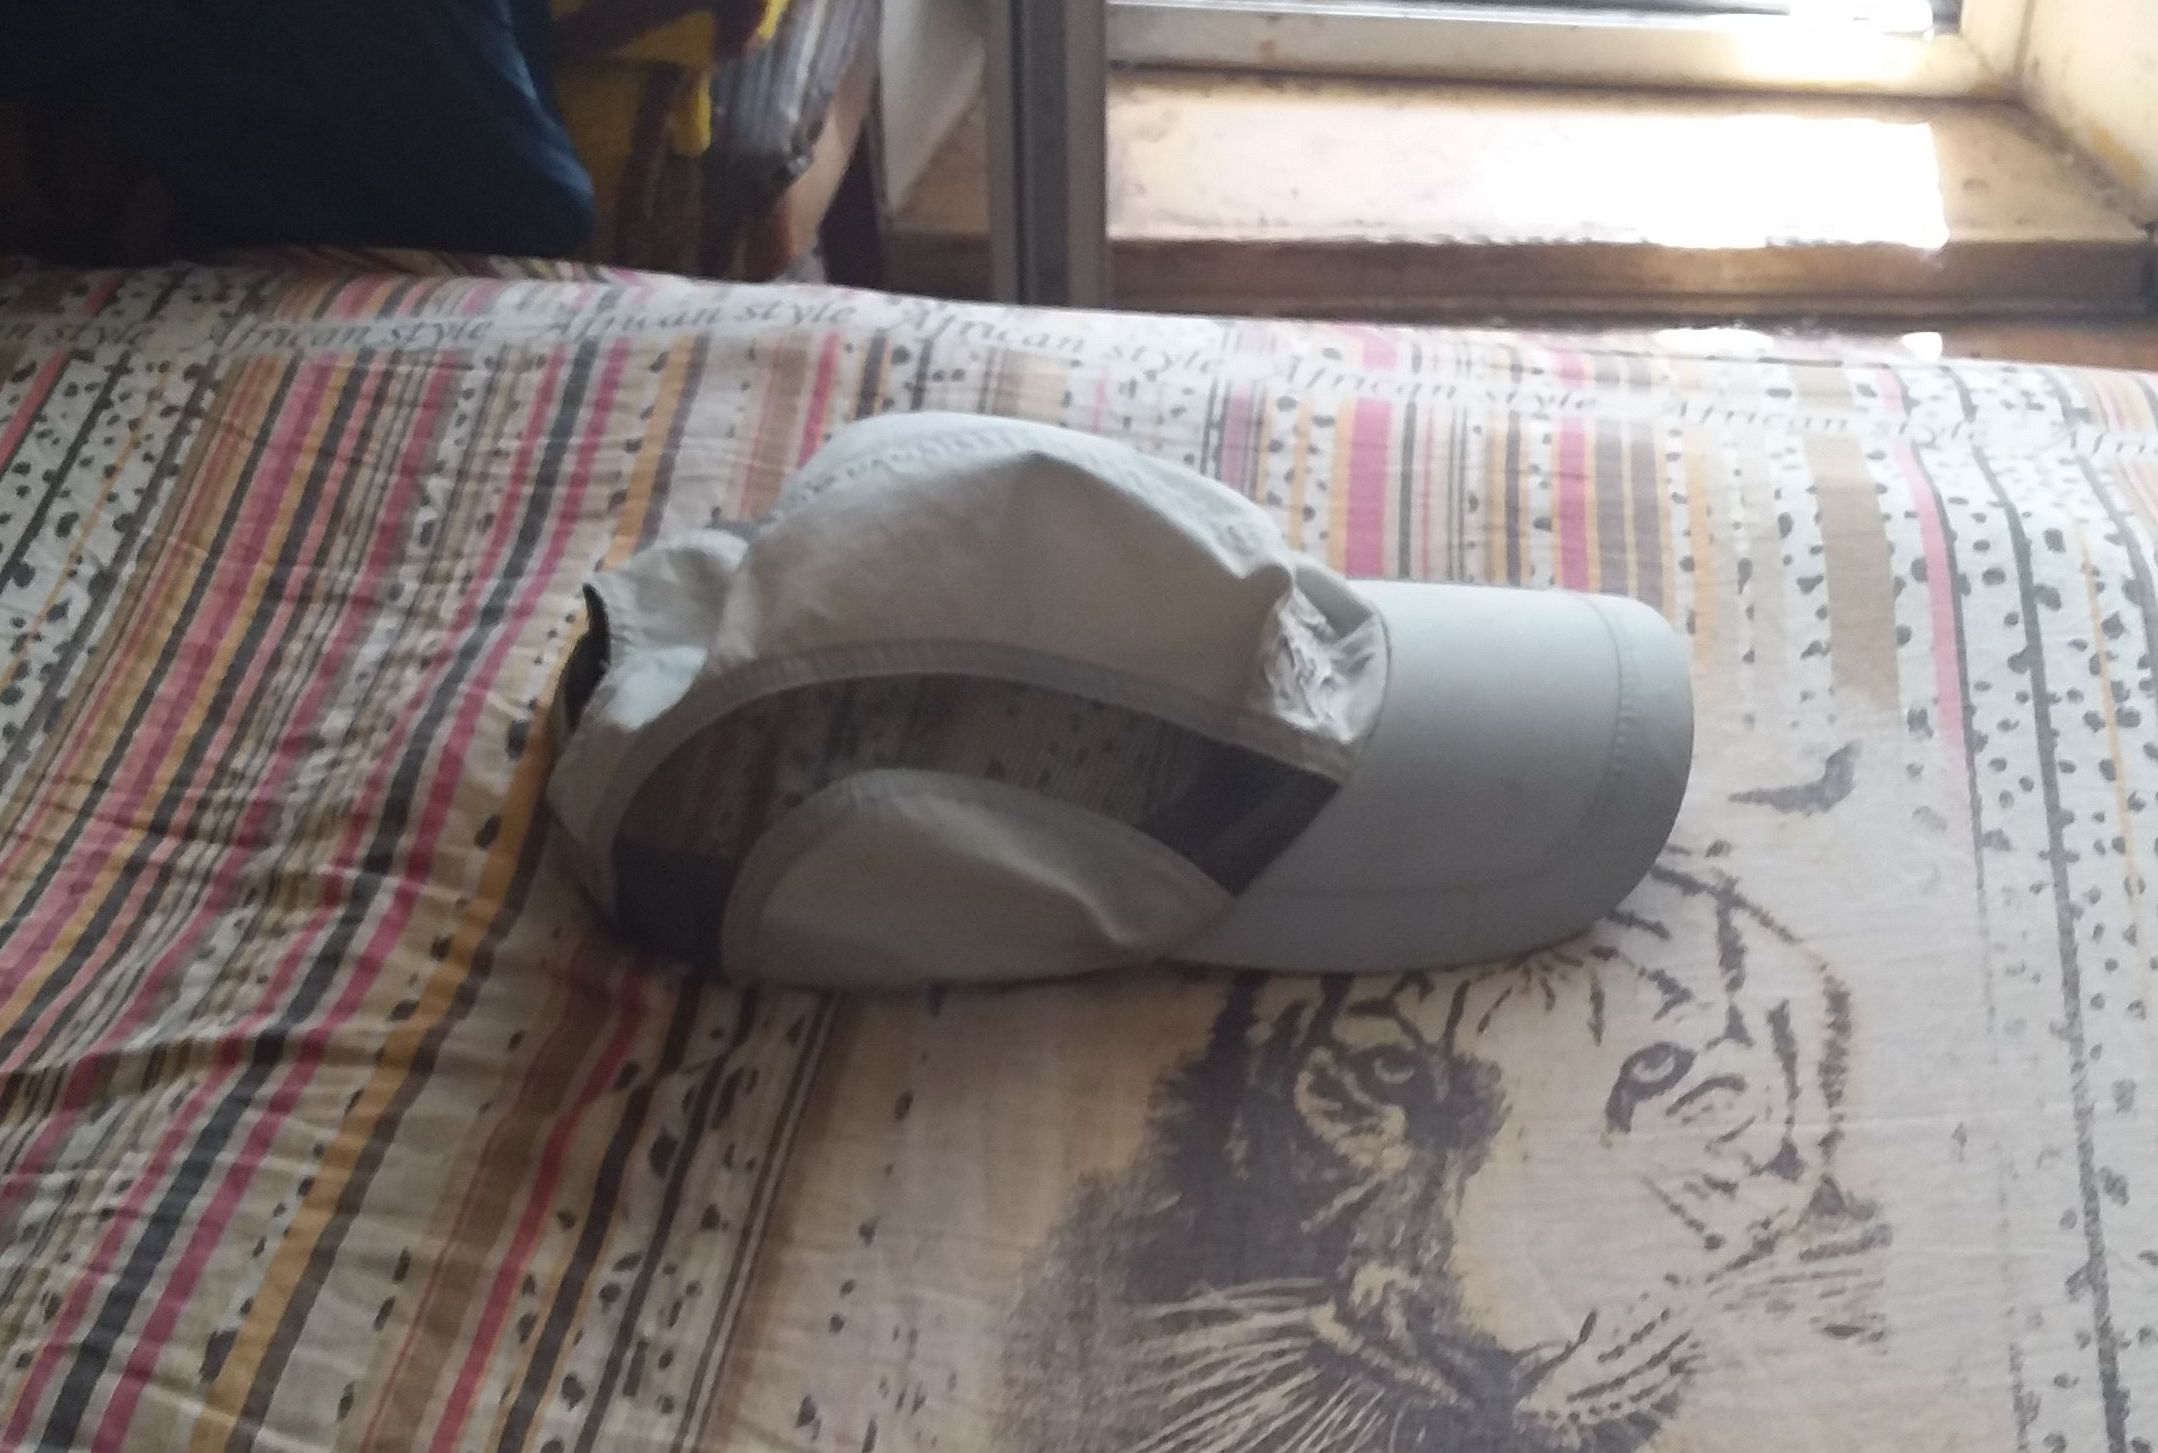clothes: (553, 415, 1706, 1007)
